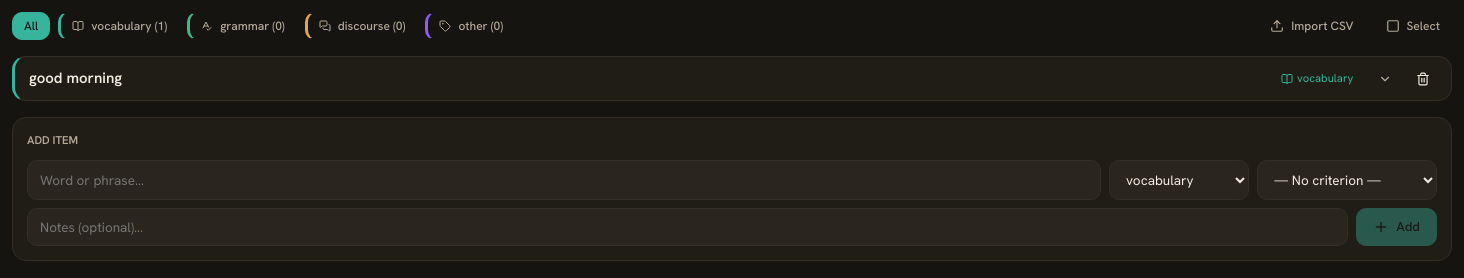
Test: VocabularyListEditor › toggles an item selection on and off
Click the button "Select" at [1413, 26], box 1374,12 -> 1452,40
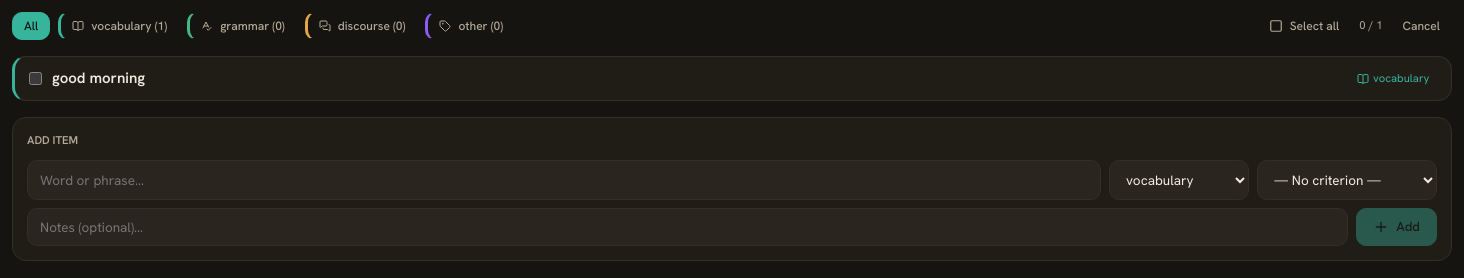
Click the checkbox at [36, 79], box 29,72 -> 42,85
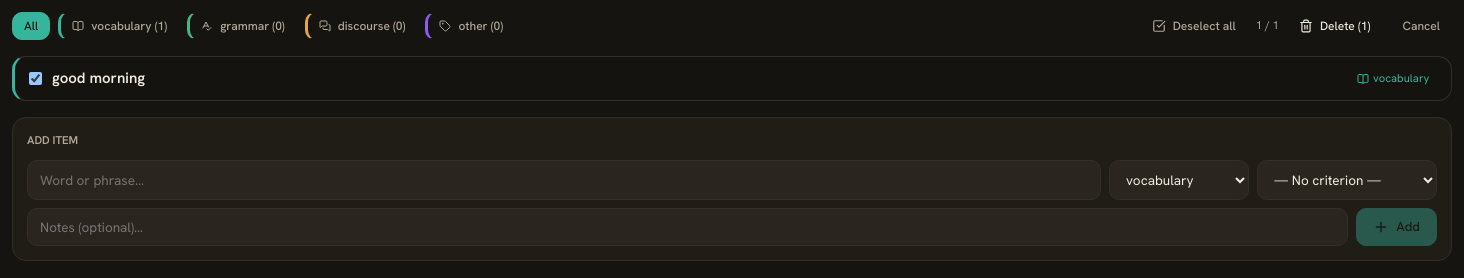
Now the text "1 / 1" is shown, box 1256,17 -> 1279,35
Click the checkbox at [36, 79], box 29,72 -> 42,85
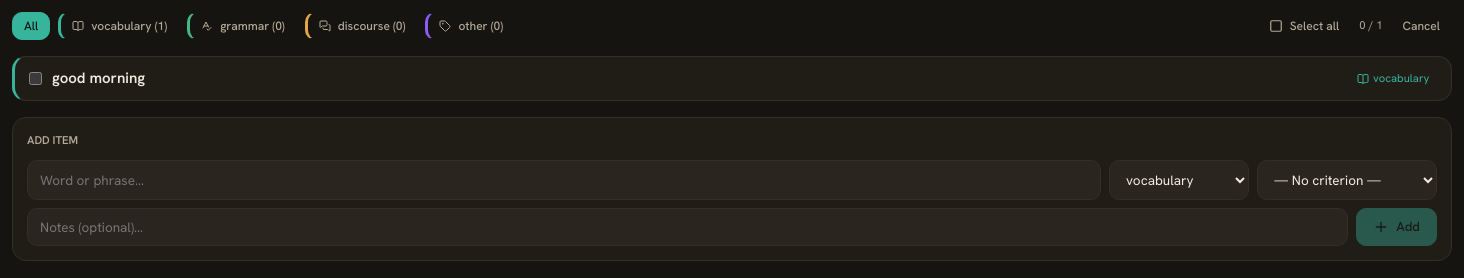
Now the text "0 / 1" is shown, box 1359,17 -> 1382,35
